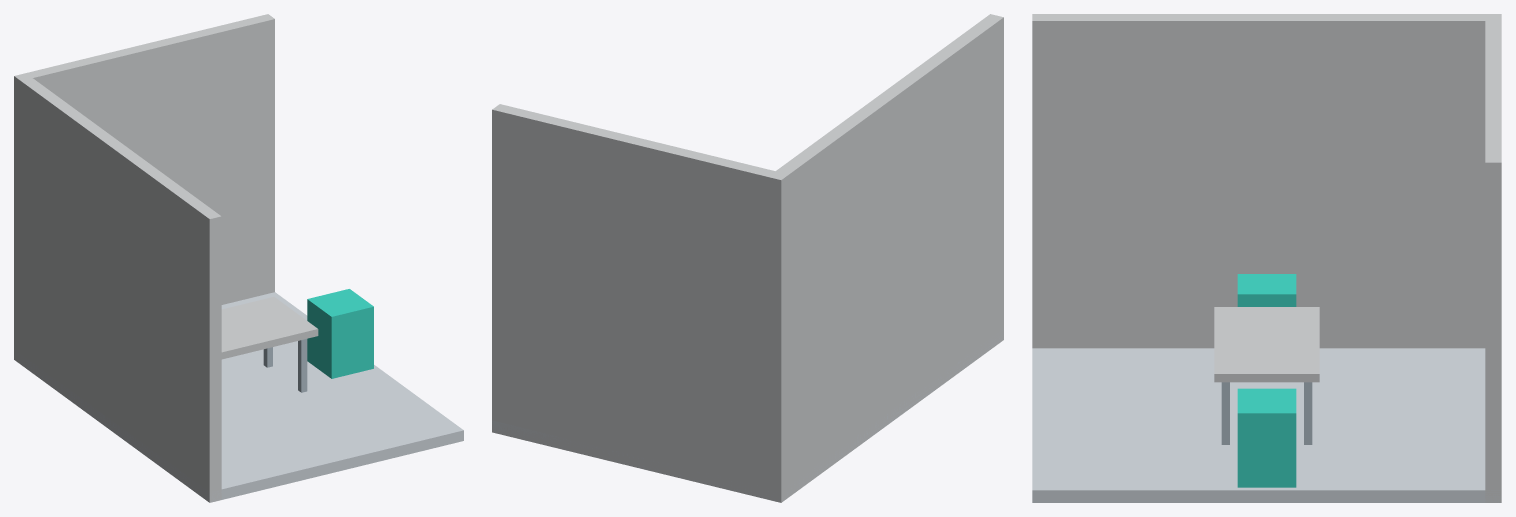
3 views of the same model, side by side, from view 1: azimuth 30°, elevation 25°; view 2: azimuth 150°, elevation 25°; view 3: azimuth 270°, elevation 25° (orthographic). The views are drawn at different scales.
Parts seen in each view (by area): view 1: Exhibition Booth Concept; view 2: Exhibition Booth Concept; view 3: Exhibition Booth Concept.
Part boxes in pixels (x1,y1,x2,y2): Exhibition Booth Concept: (14,14,463,502); Exhibition Booth Concept: (492,14,1003,502); Exhibition Booth Concept: (1032,14,1501,502).
Size of the model in its own units: 3 by 3.2 by 4.
